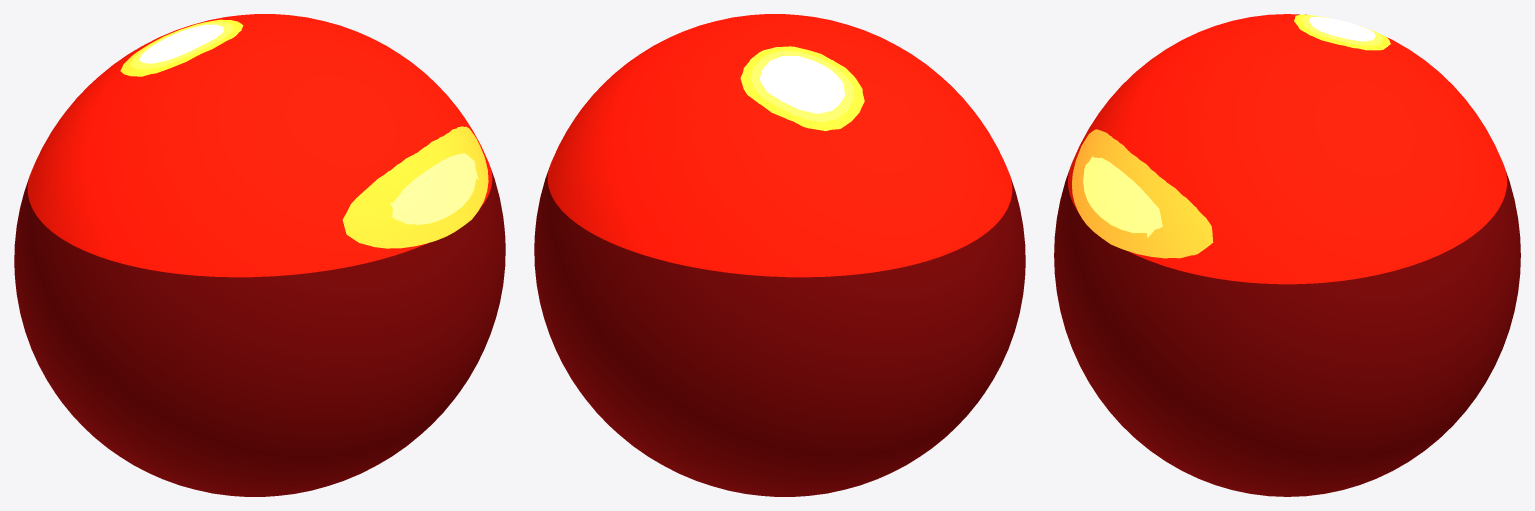
File: fire_orb_201.glb
The picture shows the model from 3 angles, left to right: view 1: azimuth 30°, elevation 25°; view 2: azimuth 150°, elevation 25°; view 3: azimuth 270°, elevation 25°; orthographic projection.
Parts seen in each view (by area): view 1: fire_orb_201; view 2: fire_orb_201; view 3: fire_orb_201.
Boxes of the visible parts, x1,y1,x2,y2 form: fire_orb_201: (14,14,505,496); fire_orb_201: (534,14,1025,496); fire_orb_201: (1054,14,1520,496).
Size of the model in its own units: 18 by 17.5 by 17.
